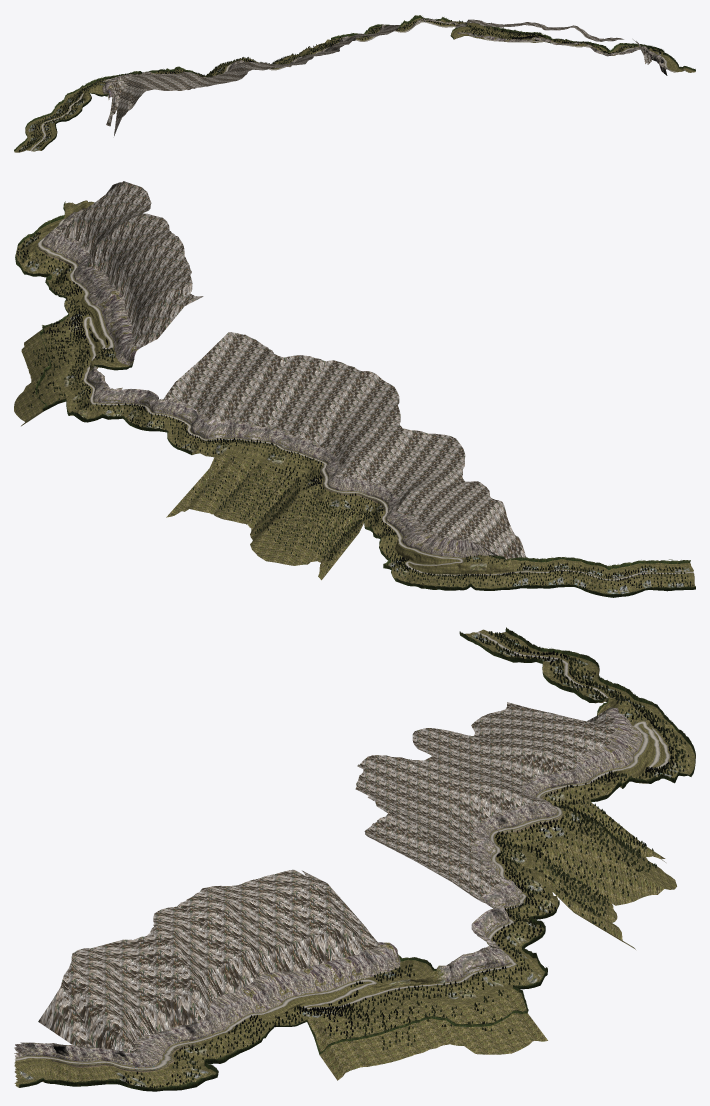
Rendered from switzerland_stage5_visual.glb.
The picture shows the model from 3 angles, top to bottom: view 1: azimuth 30°, elevation 25°; view 2: azimuth 150°, elevation 25°; view 3: azimuth 270°, elevation 25°; orthographic projection. The views are drawn at different scales.
Visible parts, largest first — view 1: Track_Road_And_Terrain, Foliage_And_Vegetation; view 2: Track_Road_And_Terrain, Foliage_And_Vegetation; view 3: Track_Road_And_Terrain, Foliage_And_Vegetation.
Boxes of the visible parts, box(x1,y1,x2,y2) form: Track_Road_And_Terrain: box(14, 15, 695, 152); Foliage_And_Vegetation: box(18, 18, 664, 151); Track_Road_And_Terrain: box(14, 181, 695, 597); Foliage_And_Vegetation: box(16, 232, 693, 591); Track_Road_And_Terrain: box(14, 627, 695, 1091); Foliage_And_Vegetation: box(122, 631, 689, 1088).
Size of the model in its own units: 2784 by 451 by 1521.
Materials: 42 (42 with a texture image).
